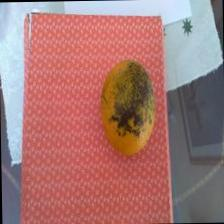Orange Rotten: (95, 50, 159, 165)
